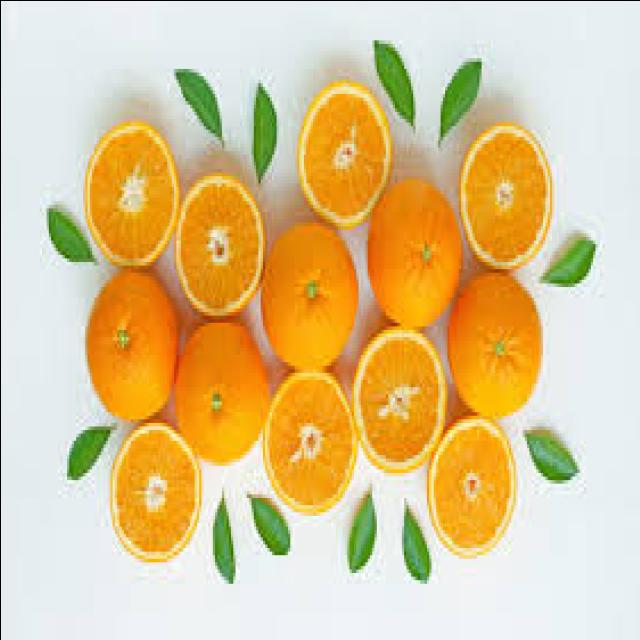orange: (76, 278, 172, 428), (262, 222, 356, 372), (452, 279, 544, 422)
